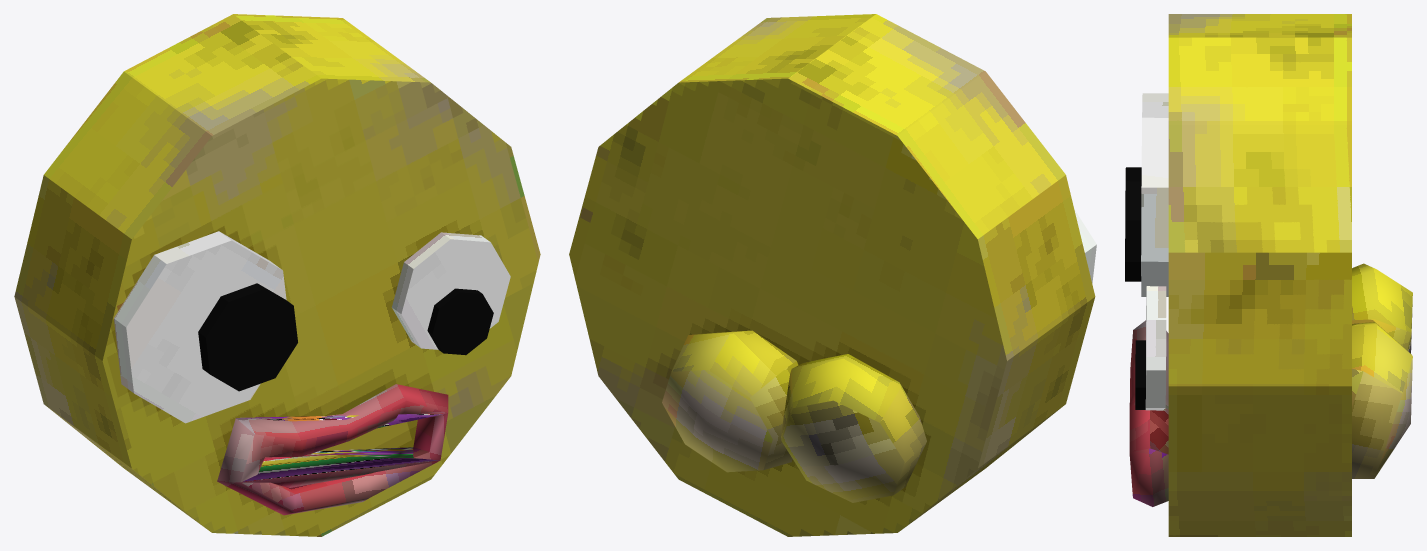
Rendered from item_blox_sphere.glb.
The picture shows the model from 3 angles, left to right: view 1: azimuth 30°, elevation 25°; view 2: azimuth 150°, elevation 25°; view 3: azimuth 270°, elevation 25°; orthographic projection. The views are drawn at different scales.
Parts seen in each view (by area): view 1: Blox_Sphere; view 2: Blox_Sphere; view 3: Blox_Sphere.
Part boxes in pixels (x1,y1,x2,y2): Blox_Sphere: (14, 14, 540, 536); Blox_Sphere: (569, 14, 1096, 536); Blox_Sphere: (1125, 14, 1412, 536).
Bounding box in the file's own units: 0.33 × 0.33 × 0.181.
Materials: 1 (1 with a texture image).
